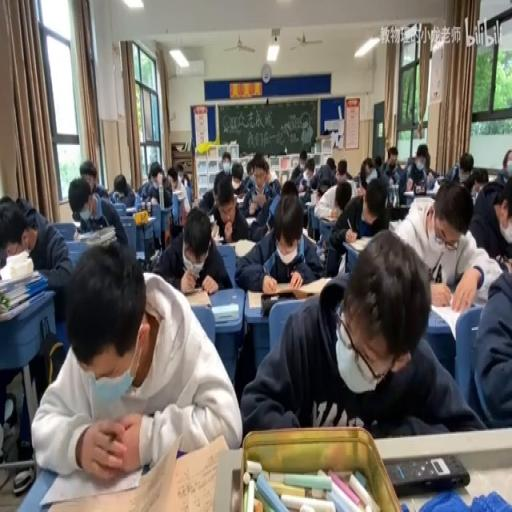calculator: (246, 280, 325, 309), (427, 302, 469, 342), (76, 222, 115, 244), (210, 300, 238, 322), (182, 287, 212, 306), (234, 236, 258, 256), (346, 234, 370, 252), (314, 235, 326, 263), (302, 229, 318, 249), (336, 252, 346, 276), (172, 184, 186, 200), (318, 212, 340, 222), (432, 180, 444, 194), (210, 222, 219, 240), (233, 193, 246, 205), (124, 205, 138, 215), (244, 214, 256, 224), (403, 189, 415, 196), (298, 188, 308, 196), (306, 198, 316, 206), (208, 213, 214, 225)
paper: (238, 232, 478, 438), (34, 238, 240, 476), (2, 192, 74, 324), (234, 189, 323, 290), (472, 258, 512, 426), (326, 171, 390, 273), (467, 165, 512, 270), (202, 176, 250, 250), (139, 160, 174, 242), (400, 144, 432, 194), (439, 148, 477, 189), (78, 158, 112, 202), (294, 162, 315, 225), (254, 154, 282, 199), (314, 155, 339, 196), (110, 174, 136, 208), (497, 151, 512, 185), (382, 145, 398, 176), (334, 183, 350, 212), (360, 158, 376, 186), (211, 168, 226, 196), (230, 164, 244, 192), (279, 179, 298, 198), (175, 162, 187, 186), (166, 168, 178, 190), (221, 150, 231, 174), (150, 171, 162, 186), (424, 172, 434, 189), (337, 164, 347, 180), (373, 155, 382, 171), (133, 192, 141, 209), (470, 184, 479, 199), (0, 195, 13, 205), (351, 174, 360, 188), (315, 184, 325, 196), (246, 161, 253, 176), (300, 156, 306, 168)
person: (384, 452, 470, 495), (390, 205, 408, 220), (112, 189, 119, 201)
